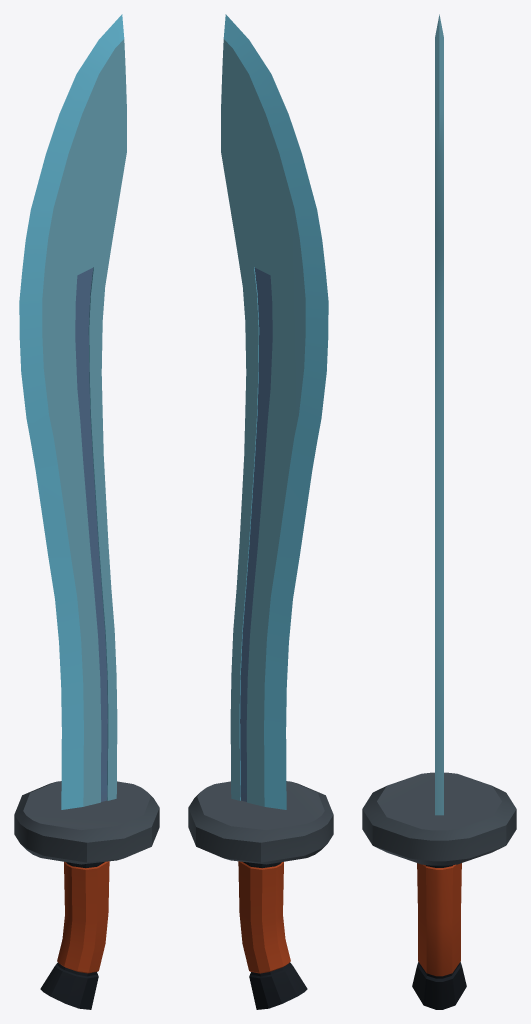
Rendered from SM_Sword04_Dao_6FantasyBlue.fbx.
3 views of the same model, side by side, from view 1: azimuth 30°, elevation 25°; view 2: azimuth 150°, elevation 25°; view 3: azimuth 270°, elevation 25° (orthographic). The views are drawn at different scales.
Visible parts, largest first — view 1: Cube.389, Cylinder.508, Cylinder.509; view 2: Cube.389, Cylinder.508, Cylinder.509; view 3: Cylinder.508, Cube.389, Cylinder.509.
Boxes of the visible parts, x1,y1,x2,y2 form: Cube.389: (19, 14, 126, 809); Cylinder.508: (14, 781, 159, 864); Cylinder.509: (40, 861, 109, 1009); Cube.389: (221, 14, 328, 809); Cylinder.508: (188, 781, 333, 864); Cylinder.509: (238, 861, 307, 1009); Cylinder.508: (362, 772, 516, 865); Cube.389: (435, 14, 443, 815); Cylinder.509: (412, 863, 466, 1009).
Bounding box in the file's own units: 0.1072 × 0.7695 × 0.1062.
